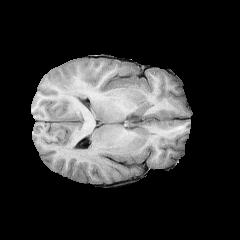glioma: (45, 72, 97, 161)
